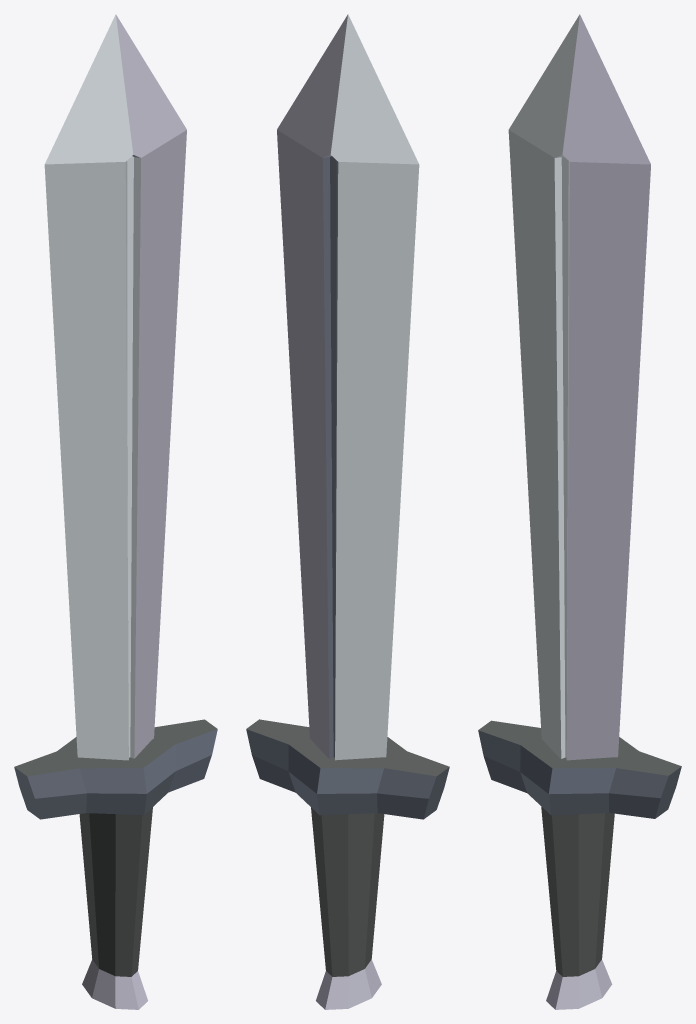
Rendered from Gator Siege_sword2.fbx.
3 renders of one model, left to right at view 1: azimuth 30°, elevation 25°; view 2: azimuth 150°, elevation 25°; view 3: azimuth 330°, elevation 25°, orthographic.
Visible parts, largest first — view 1: sword 2; view 2: sword 2; view 3: sword 2.
Boxes of the visible parts, left/top/right/bottom form: sword 2: left=14, top=14, right=217, bottom=1009; sword 2: left=246, top=14, right=449, bottom=1009; sword 2: left=478, top=14, right=681, bottom=1009.
Size of the model in its own units: 0.0505 by 0.0286 by 0.2478.
